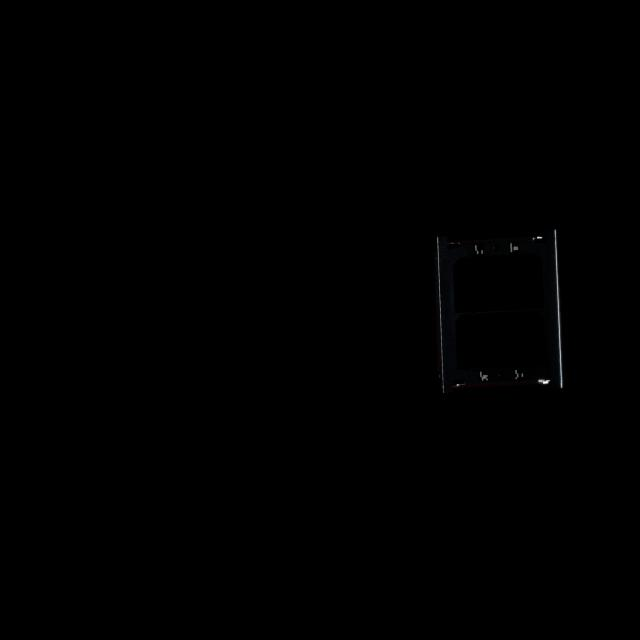medium_debris: (430, 225, 571, 402)
